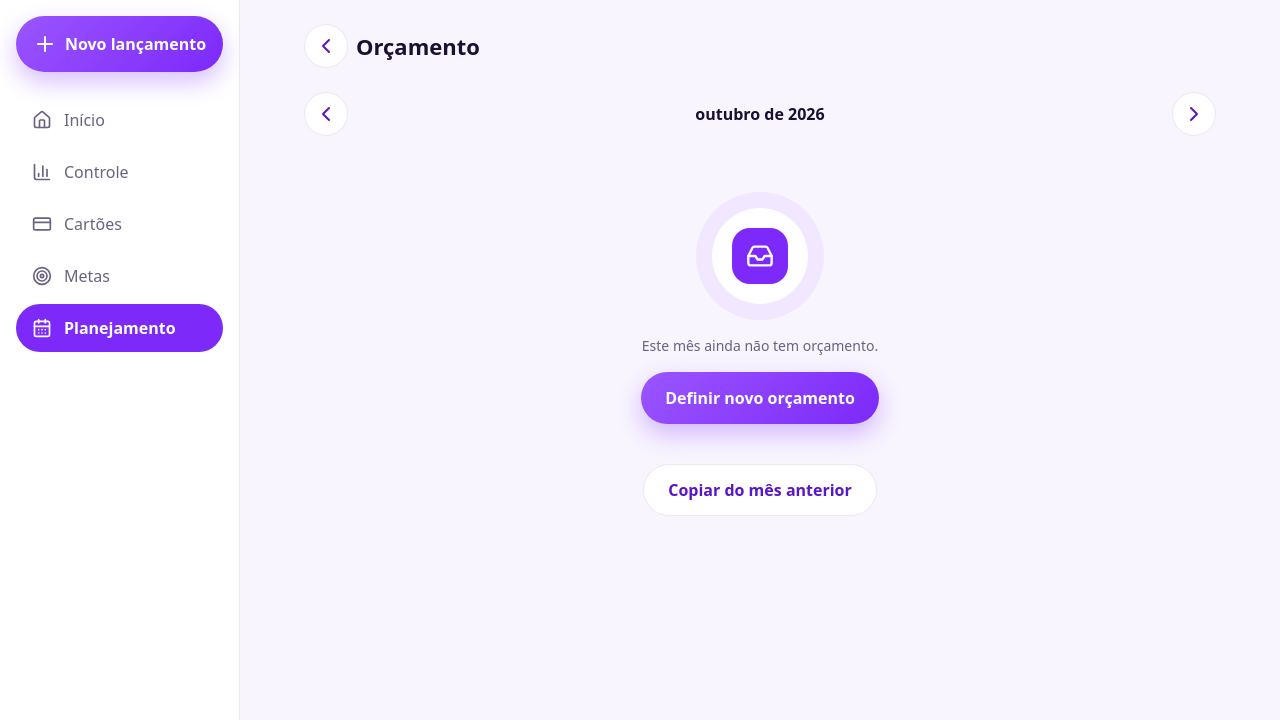
Test: Orcamento: copiar do mês anterior (CA-7.08) › o erro de cópia some ao trocar de mês
What coordinates should you click on to do the following:
click the button "Copiar do mês anterior"
I would click on:
 (760, 490)
Its box is [643, 464, 877, 516].
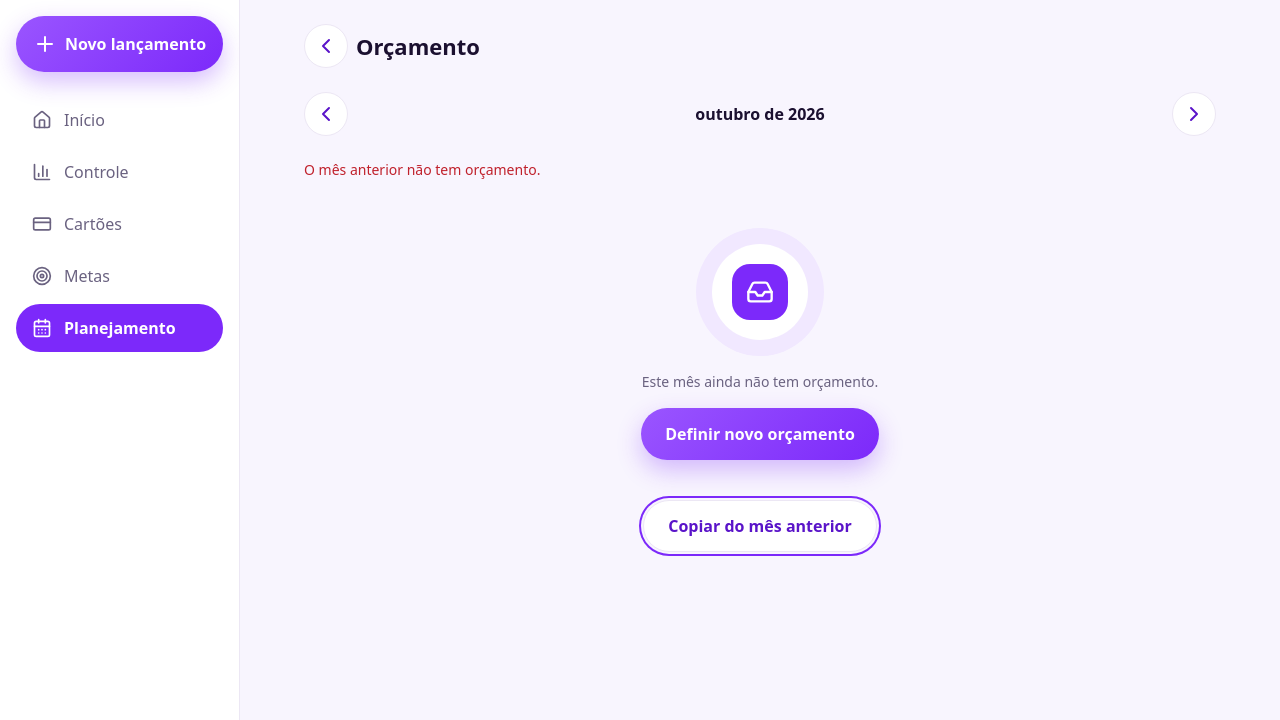
Result: the text "O mês anterior não tem orçamento." is shown at [304, 160, 540, 179]
What coordinates should you click on to do the following:
click the button named "mês anterior"
I would click on:
 (326, 114)
Its box is [304, 92, 348, 136].
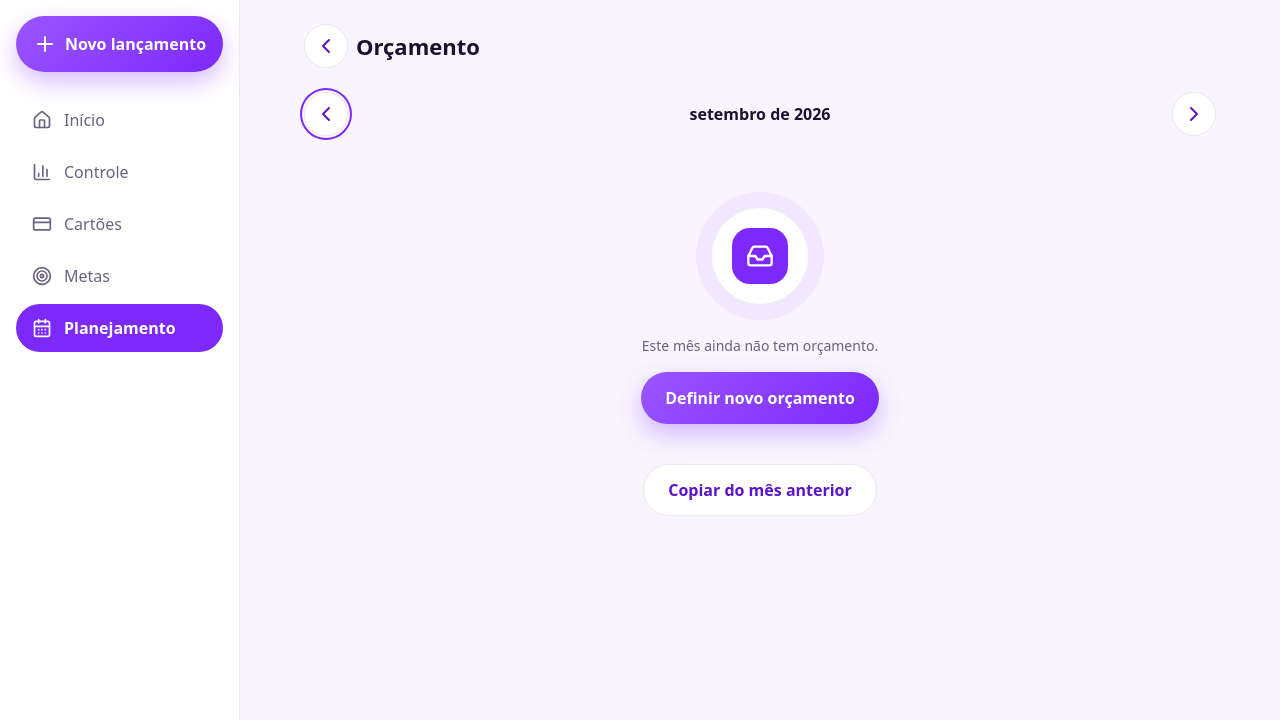
Result: the text "setembro de 2026" is shown at [690, 103, 830, 125]
Result: the text "O mês anterior não tem orçamento." is gone
